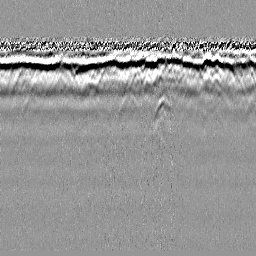cavity: (117, 88, 139, 115)
